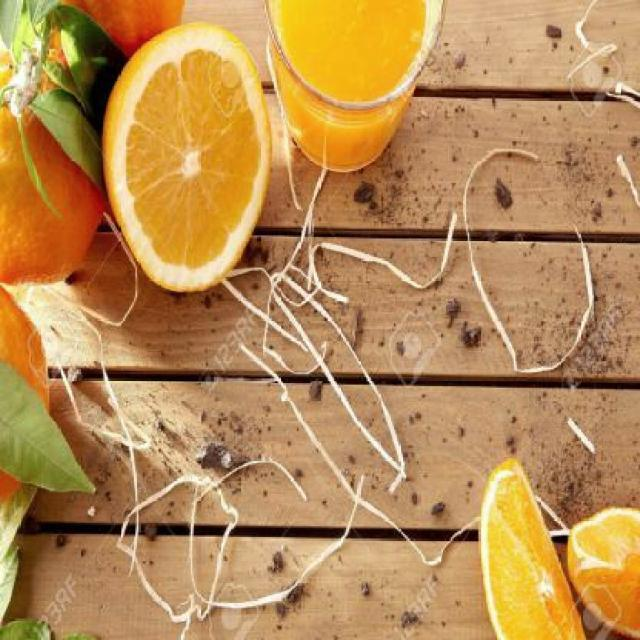Jeruk Sudah Matang: (0, 57, 112, 305), (14, 0, 191, 75), (0, 269, 52, 508)
